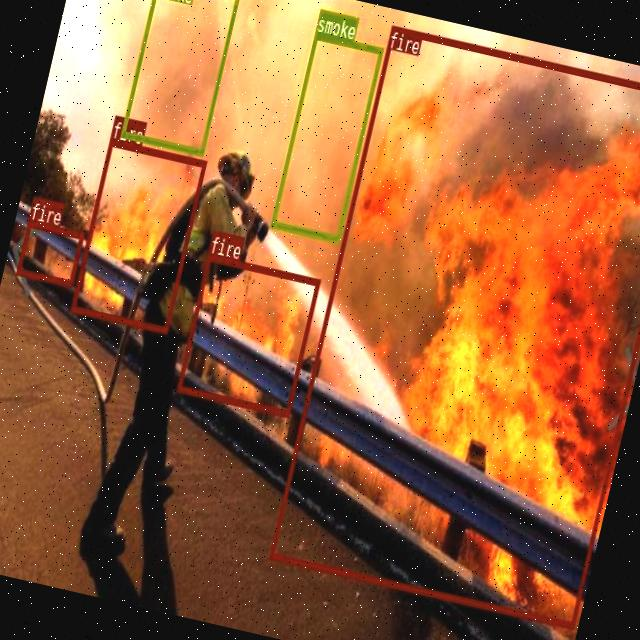fire: (268, 24, 640, 628), (70, 137, 206, 332), (176, 252, 320, 415), (15, 219, 84, 286)
smoke: (270, 30, 382, 242), (119, 0, 240, 154)
